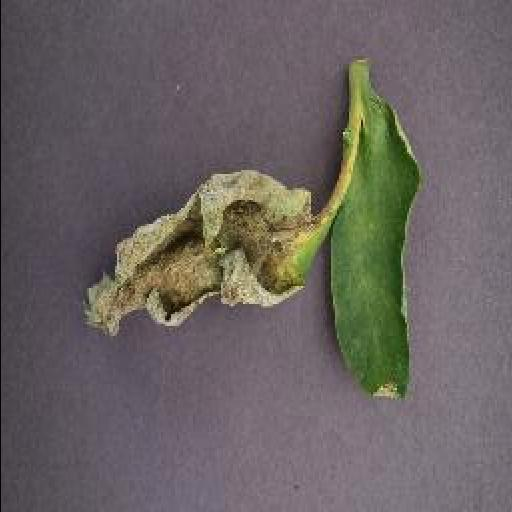disease_tomato: (78, 166, 320, 340)
